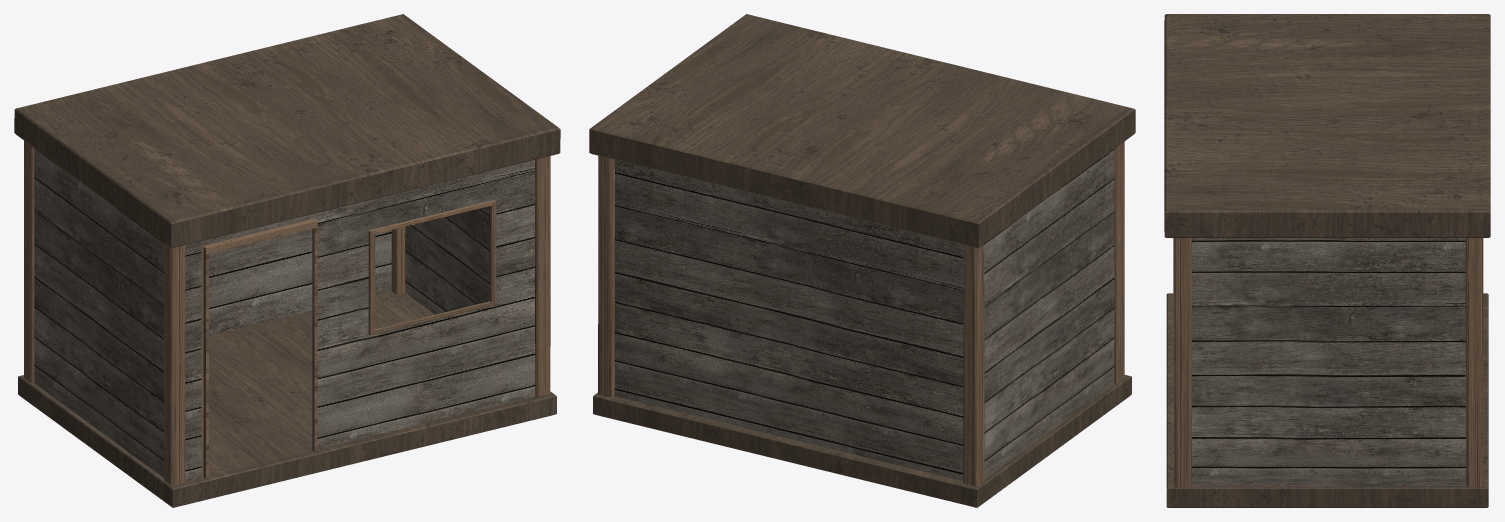
The model's file is lowpoly_shed.glb.
The picture shows the model from 3 angles, left to right: view 1: azimuth 30°, elevation 25°; view 2: azimuth 150°, elevation 25°; view 3: azimuth 270°, elevation 25°; orthographic projection. The views are drawn at different scales.
Parts seen in each view (by area): view 1: Shed; view 2: Shed; view 3: Shed.
Part boxes in pixels (x1=…): Shed: x1=14, y1=14, x2=560, y2=507; Shed: x1=589, y1=14, x2=1135, y2=507; Shed: x1=1164, y1=14, x2=1490, y2=507.
Size of the model in its own units: 6.26 by 4.41 by 4.37.
3 materials, 3 textured.
